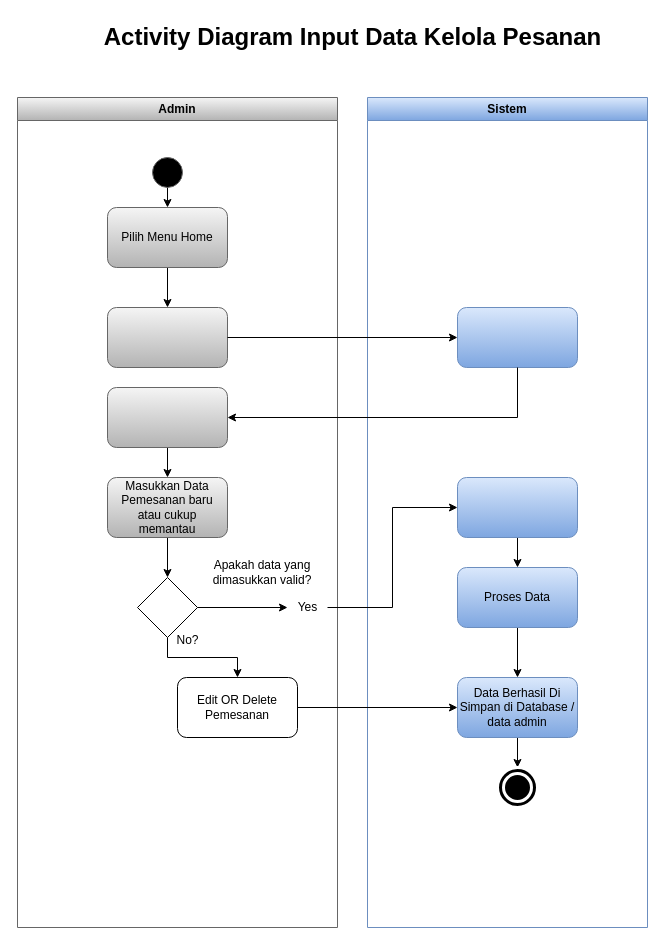
Image size: 665x945. Some labels were removed from this diagram. Here are the shapes that lost their labels. From the top down, the centre of each, then its label:
the point at 167,337: Lakukan Login Admin
the point at 517,337: Masuk di Dasboard Admin
the point at 167,417: Pilih Pesanan
the point at 517,507: Otomatis Menyimpan data pemesanan Customer
